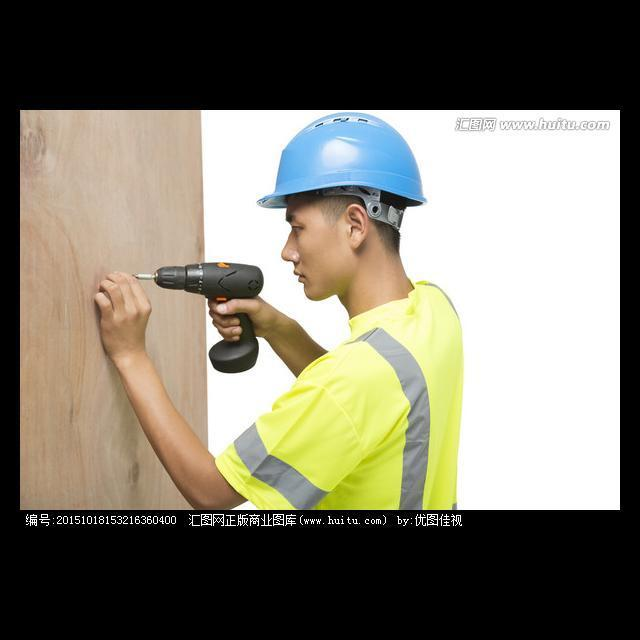Capacete: (257, 112, 425, 228)
Colete: (215, 281, 462, 509)
